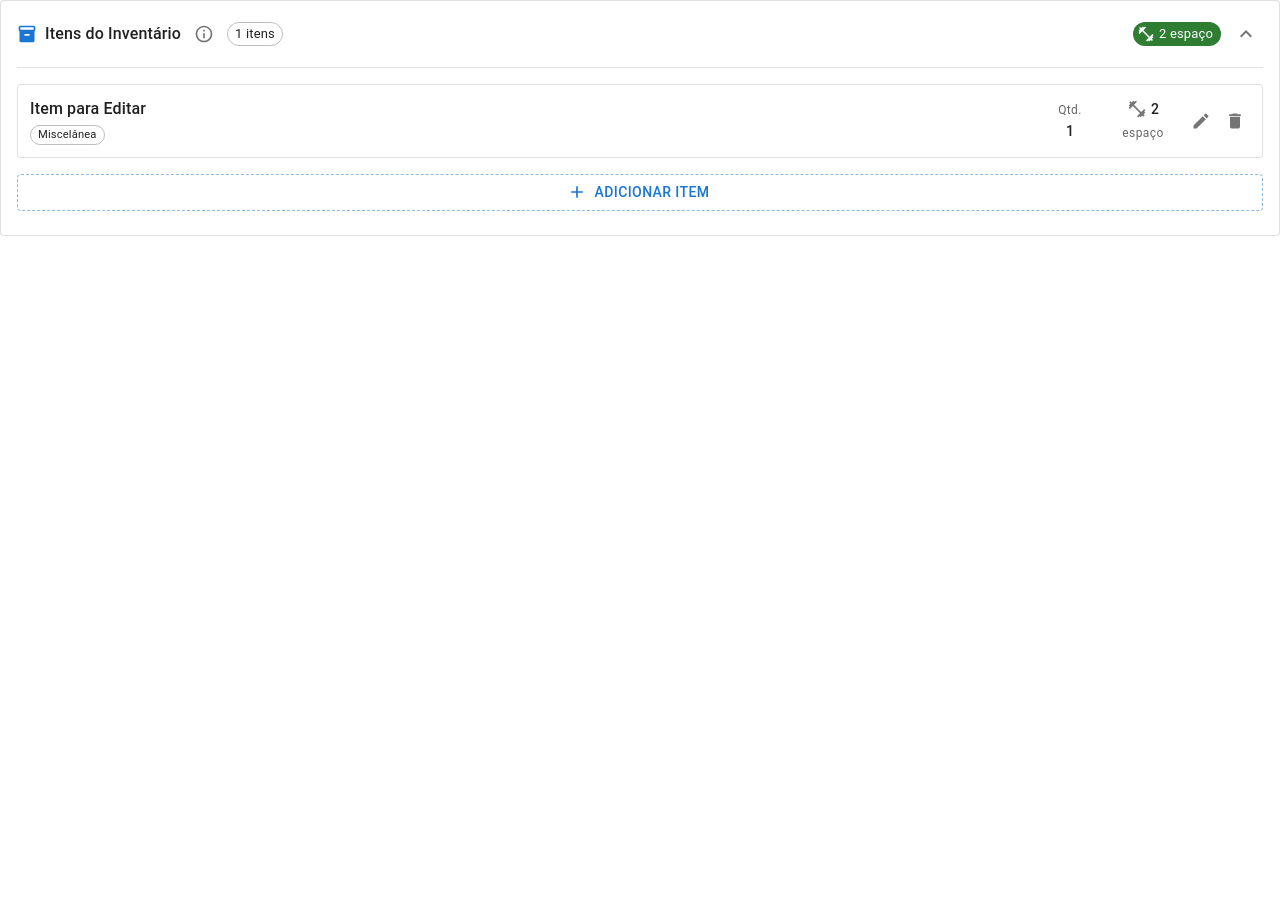
Test case: InventoryList › Editar item › deve abrir diálogo de edição ao clicar no botão editar
Click the button named "editar item para editar" at (1201, 121), box [1186,106,1216,136]
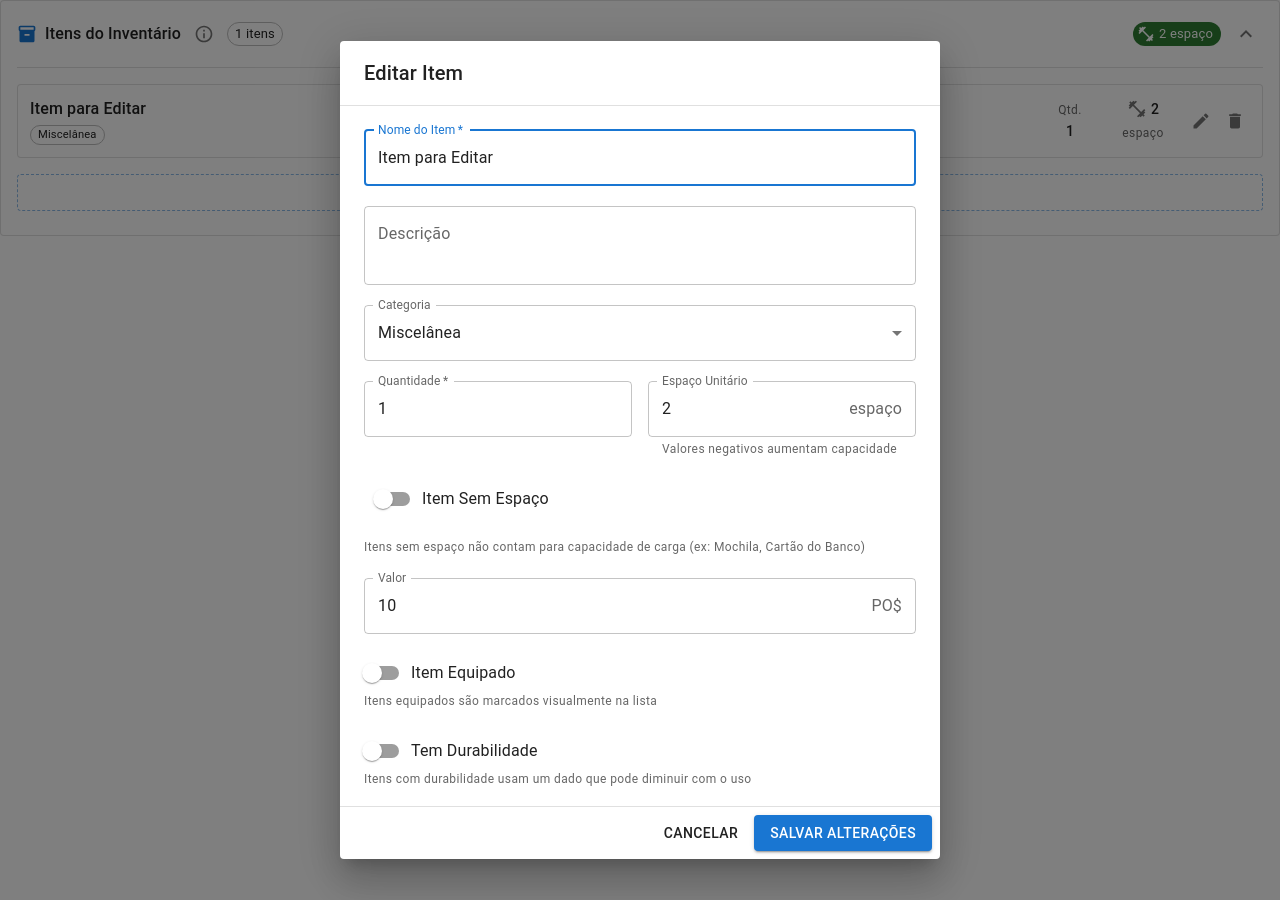
Result: the dialog is shown at [340,41,940,859]
Result: the heading "Editar Item" is shown at [364,61,463,85]
